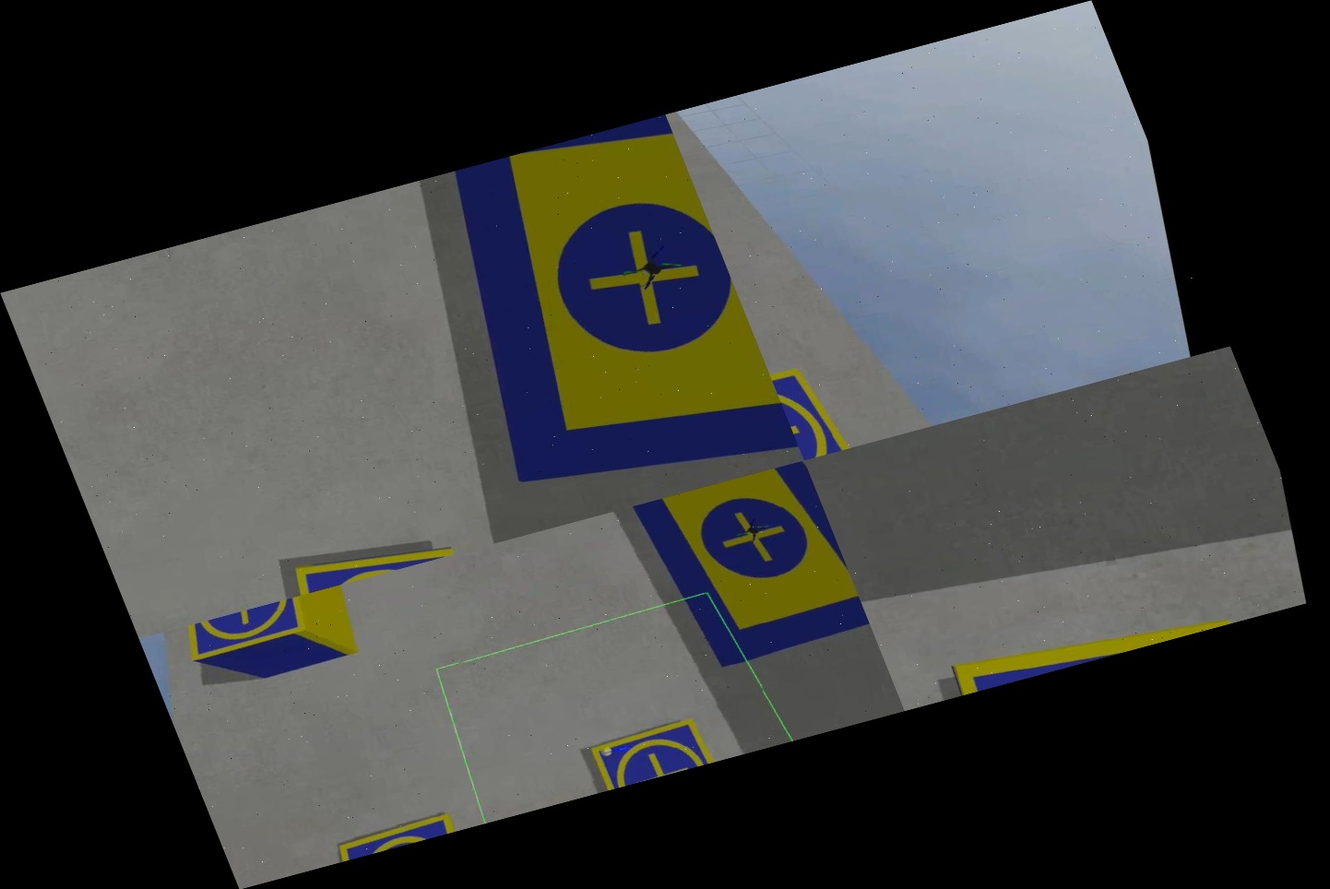large_base: (398, 114, 799, 518), (589, 460, 880, 705)
small_base: (922, 575, 1260, 701), (566, 697, 737, 795), (176, 592, 333, 681), (275, 526, 455, 599), (764, 341, 867, 460), (327, 796, 463, 861)
